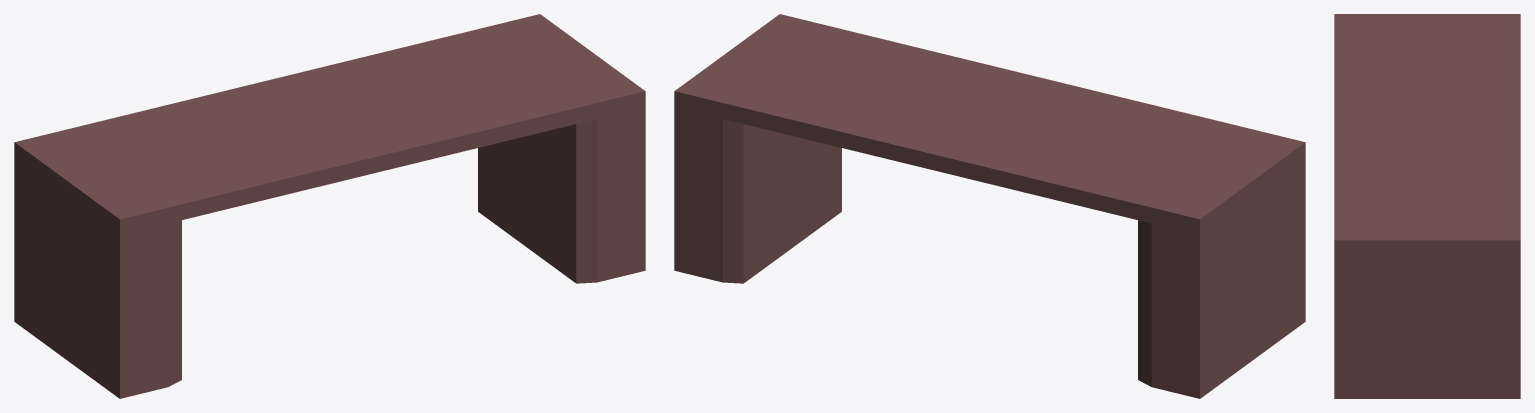
File: desk.fbx
3 renders of one model, left to right at view 1: azimuth 30°, elevation 25°; view 2: azimuth 150°, elevation 25°; view 3: azimuth 270°, elevation 25°, orthographic. The views are drawn at different scales.
Visible parts, largest first — view 1: desk; view 2: desk; view 3: desk.
Part boxes in pixels (left/top/right/bottom): desk: left=14, top=14, right=645, bottom=398; desk: left=674, top=14, right=1305, bottom=398; desk: left=1334, top=14, right=1520, bottom=398.
Size of the model in its own units: 664 by 217 by 231.
1 material, 1 textured.
